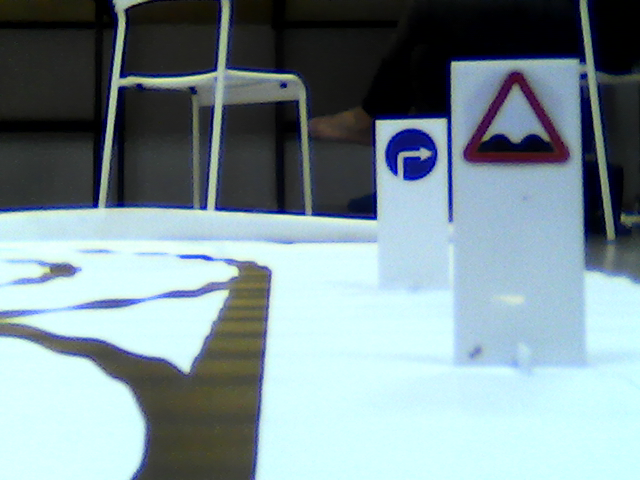Nerov: (458, 69, 571, 164)
Right: (383, 128, 437, 179)
